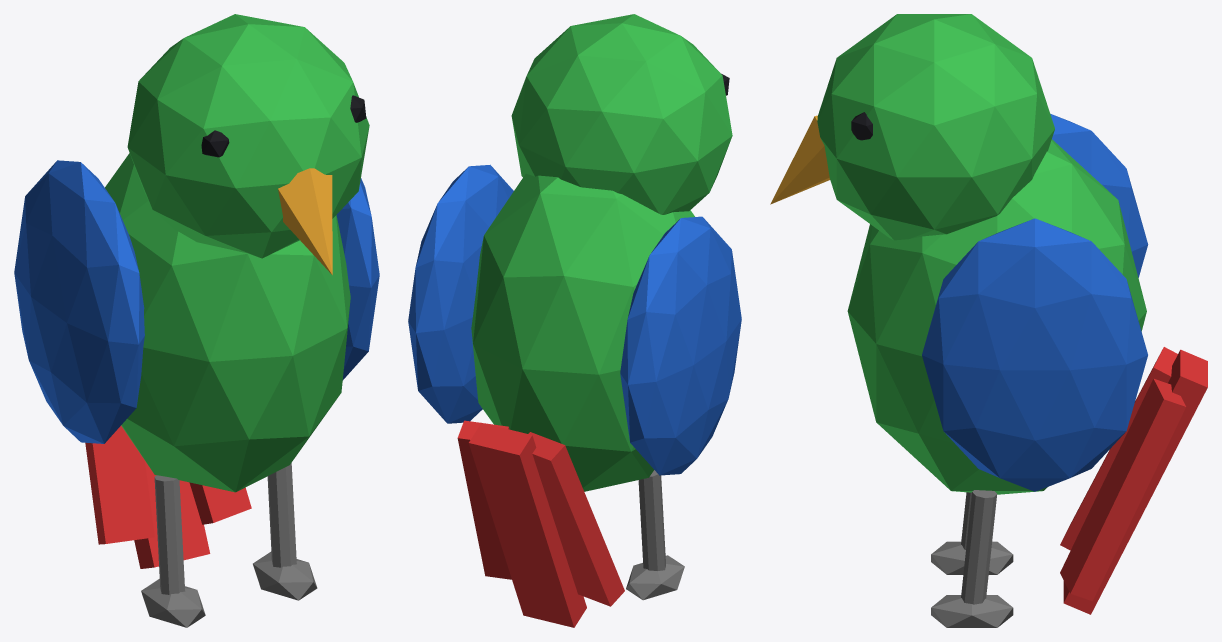
Rendered from Parrot.fbx.
3 views of the same model, side by side, from view 1: azimuth 30°, elevation 25°; view 2: azimuth 150°, elevation 25°; view 3: azimuth 270°, elevation 25° (orthographic). The views are drawn at different scales.
Visible parts, largest first — view 1: Feathers, Wings, Tail, Feet, Beak, Eyes; view 2: Feathers, Wings, Tail, Feet; view 3: Feathers, Wings, Tail, Feet, Beak.
Part boxes in pixels (x1,y1,x2,y2): Feathers: [105, 14, 369, 492]; Wings: [14, 160, 379, 443]; Tail: [85, 425, 251, 568]; Feet: [141, 463, 317, 627]; Beak: [278, 168, 332, 274]; Eyes: [201, 95, 366, 157]; Feathers: [471, 14, 732, 491]; Wings: [408, 164, 741, 475]; Tail: [457, 420, 624, 627]; Feet: [626, 470, 684, 600]; Feathers: [817, 14, 1146, 494]; Wings: [922, 114, 1148, 491]; Tail: [1060, 347, 1207, 614]; Feet: [931, 490, 1013, 627]; Beak: [770, 115, 829, 204].
Size of the model in its own units: 1.33 by 2.55 by 1.74.
